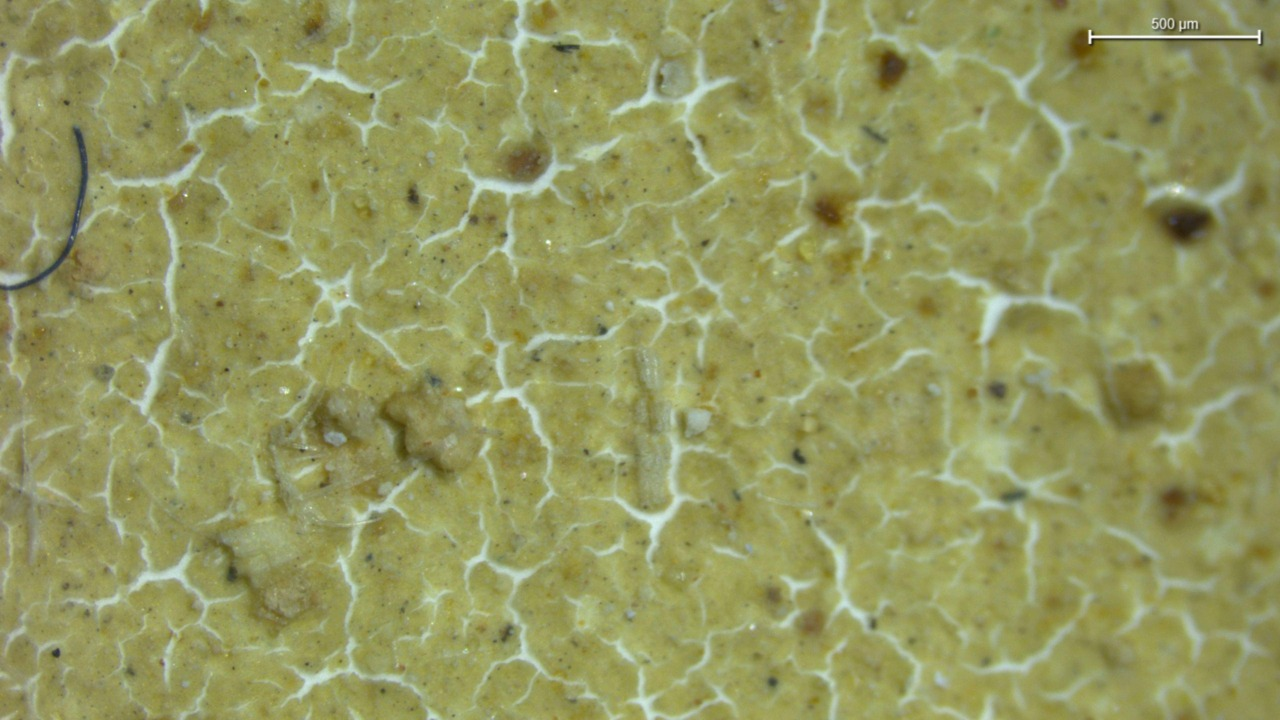microplastic_fragment: (384, 376, 487, 475), (320, 385, 379, 447), (682, 407, 712, 438)
